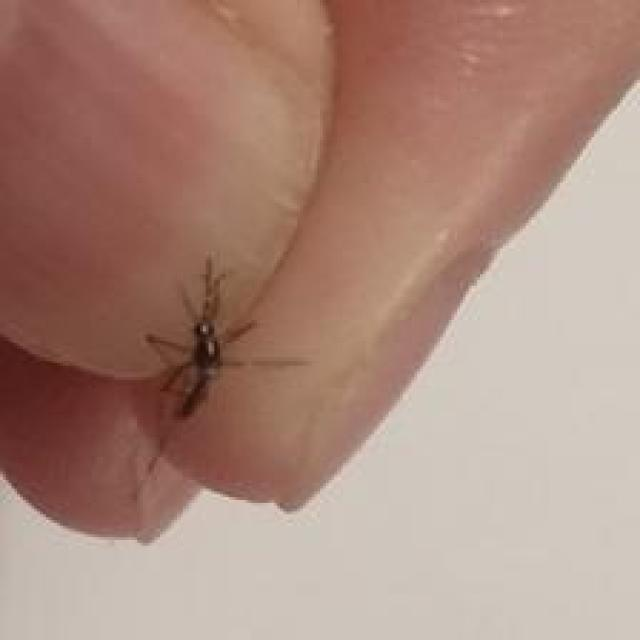Aedes albopictus: (141, 253, 310, 421)
